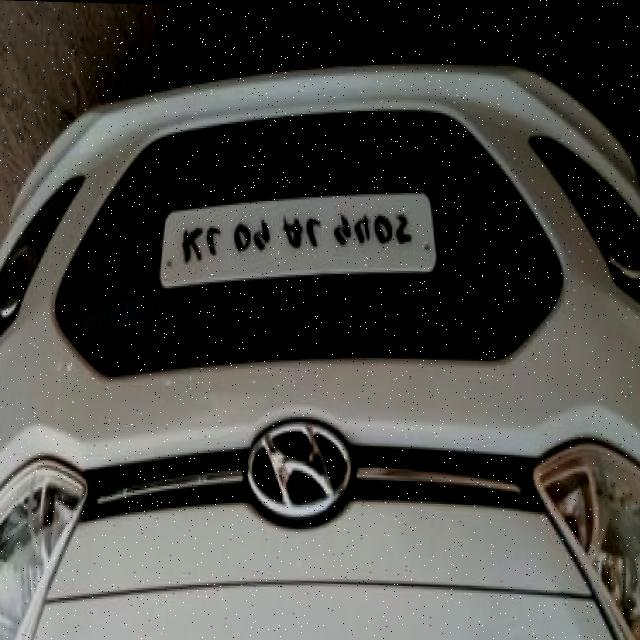plate: (159, 175, 438, 297)
